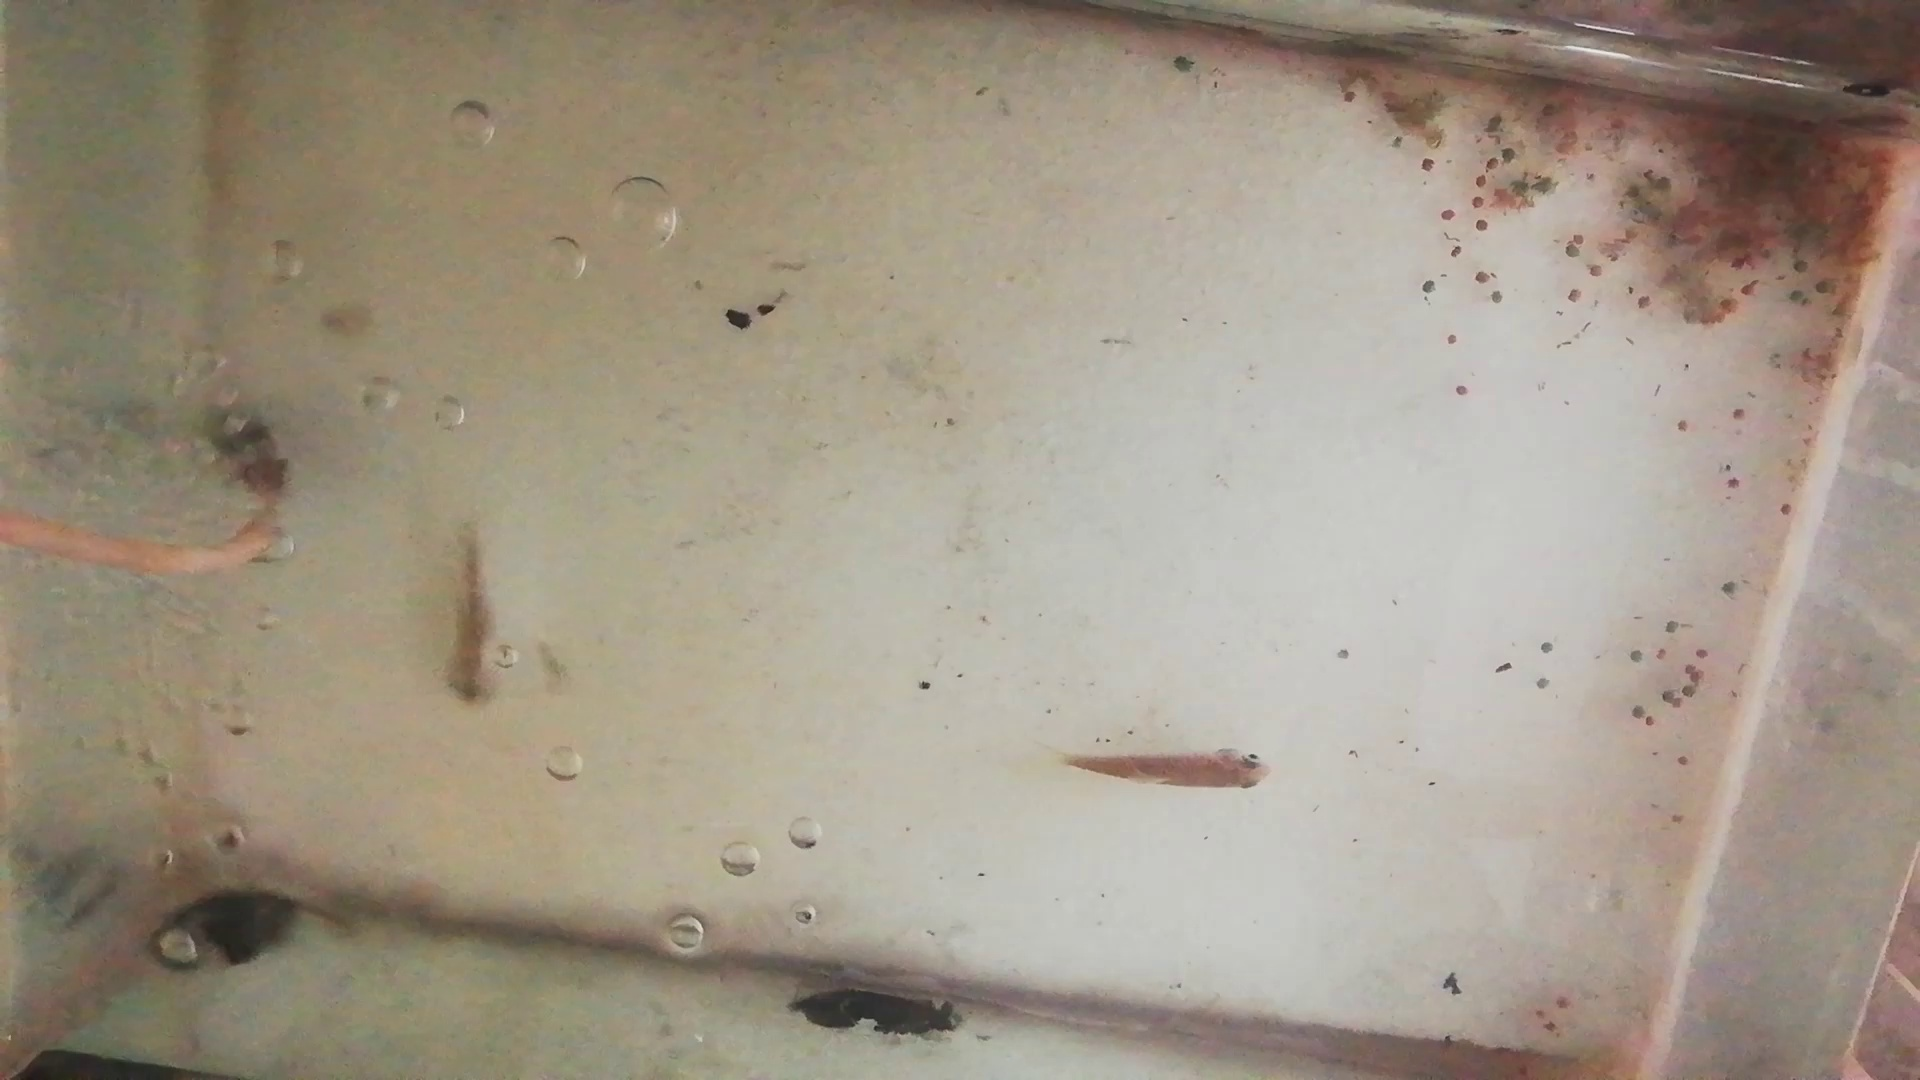fish: (443, 524, 508, 709), (1064, 746, 1279, 794)
